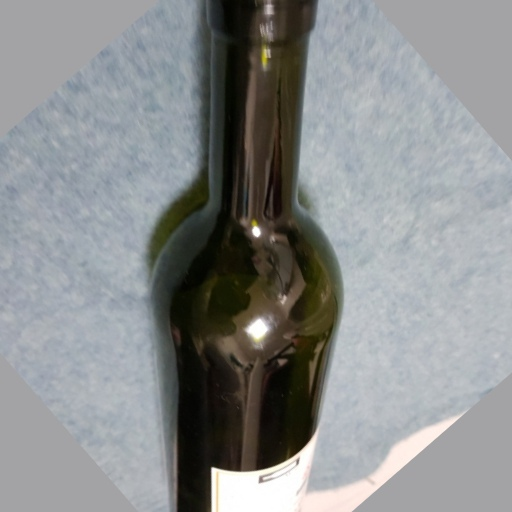Glass_2: (140, 2, 344, 512)
